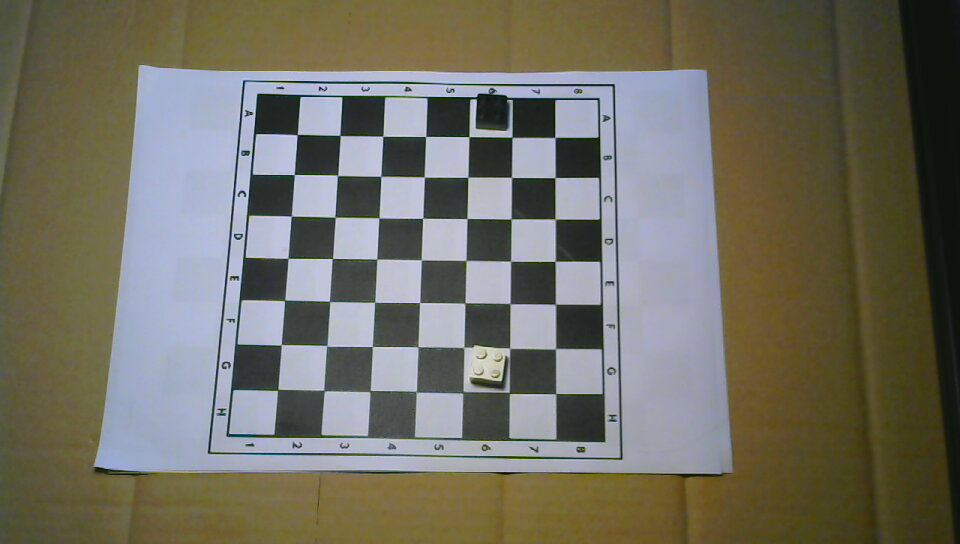bp: (474, 94, 510, 132)
wp: (466, 344, 506, 387)
